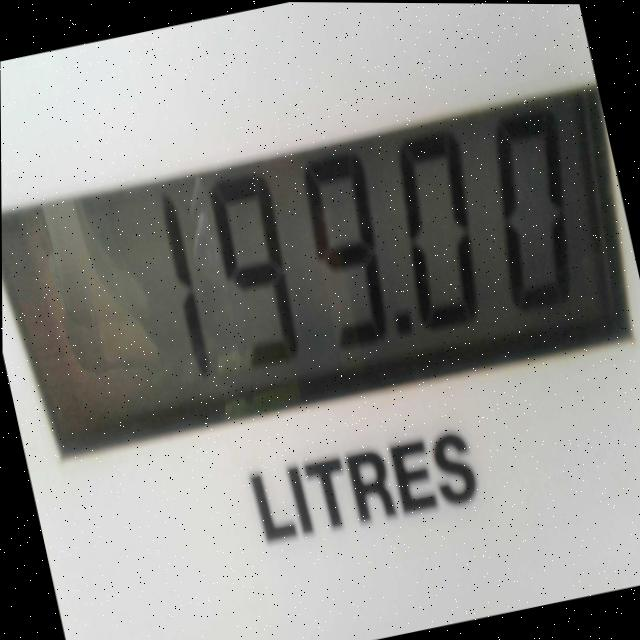.: (387, 296, 419, 355)
0: (468, 108, 600, 334), (379, 123, 491, 325)
1: (124, 181, 229, 395)
9: (194, 163, 318, 388), (285, 143, 397, 352)
